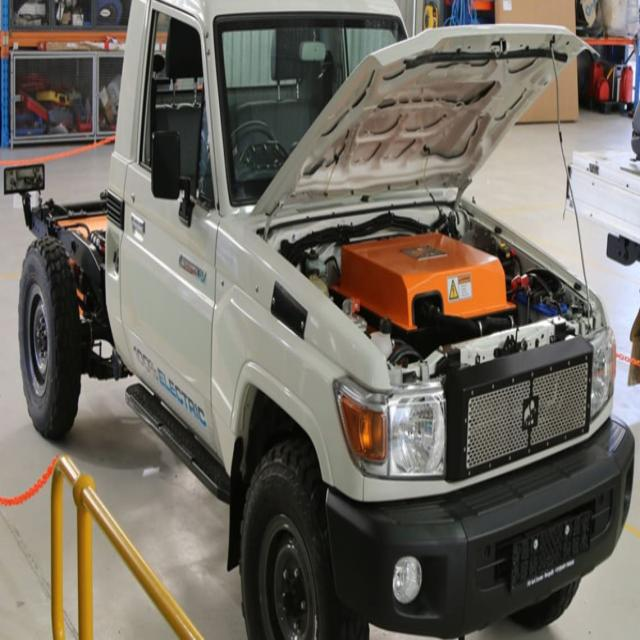light_vehicle: (14, 0, 629, 639)
